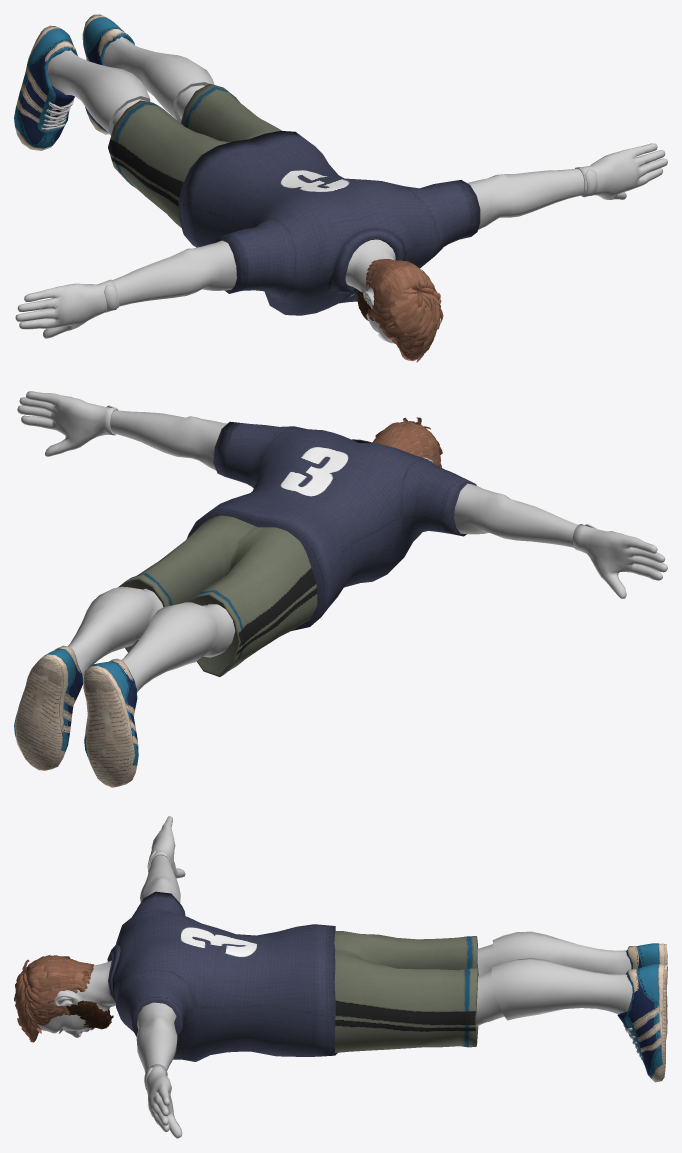
The model's file is football-player3.obj.
The picture shows the model from 3 angles, top to bottom: view 1: azimuth 30°, elevation 25°; view 2: azimuth 150°, elevation 25°; view 3: azimuth 270°, elevation 25°; orthographic projection. The views are drawn at different scales.
Visible parts, largest first — view 1: Tops, Body, Bottoms, Socks, Gloves, Shoes, Hair; view 2: Tops, Bottoms, Shoes, Body, Socks, Gloves, Hair; view 3: Tops, Bottoms, Socks, Body, Shoes, Hair, Gloves, Beards.
Part boxes in pixels (x1,y1,x2,y2): Tops: (178,131,480,315); Body: (112,85,584,343); Bottoms: (108,83,282,227); Socks: (47,36,214,135); Gloves: (15,143,667,338); Shoes: (14,14,134,150); Hair: (366,259,443,362); Tops: (187,421,476,630); Bottoms: (118,515,317,676); Shoes: (14,645,138,787); Body: (110,410,577,657); Socks: (68,586,217,692); Gloves: (17,391,667,598); Hair: (372,417,442,468); Tops: (107,891,337,1061); Bottoms: (334,931,478,1052); Socks: (491,931,632,1020); Body: (36,855,504,1072); Shoes: (617,943,667,1082); Hair: (14,955,93,1042); Gloves: (144,816,185,1138); Beards: (64,1000,113,1029).
Size of the model in its own units: 1.94 by 0.4066 by 1.83.
